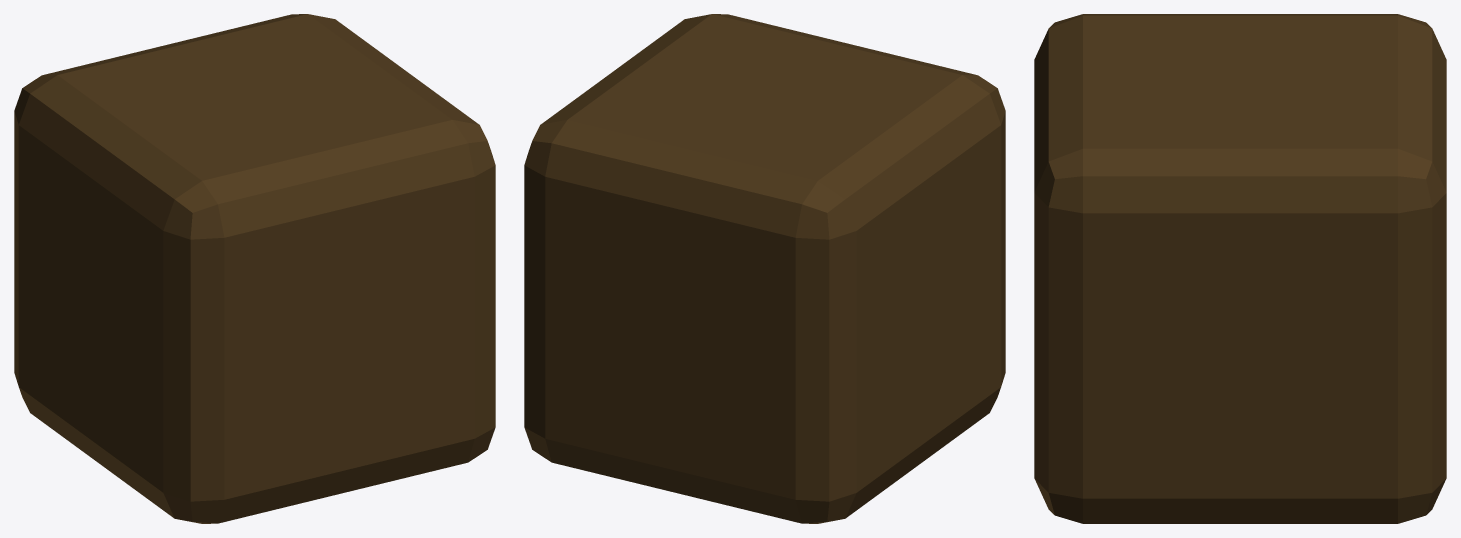
Rendered from SM_Cube_Basic_1x1x1.fbx.
The picture shows the model from 3 angles, left to right: view 1: azimuth 30°, elevation 25°; view 2: azimuth 150°, elevation 25°; view 3: azimuth 270°, elevation 25°; orthographic projection. The views are drawn at different scales.
Parts seen in each view (by area): view 1: Cube_Basic_1x1x1; view 2: Cube_Basic_1x1x1; view 3: Cube_Basic_1x1x1.
Part boxes in pixels (left/top/right/bottom): Cube_Basic_1x1x1: left=14, top=14, right=495, bottom=523; Cube_Basic_1x1x1: left=524, top=14, right=1005, bottom=523; Cube_Basic_1x1x1: left=1034, top=14, right=1446, bottom=523.
Size of the model in its own units: 100 by 100 by 100.
